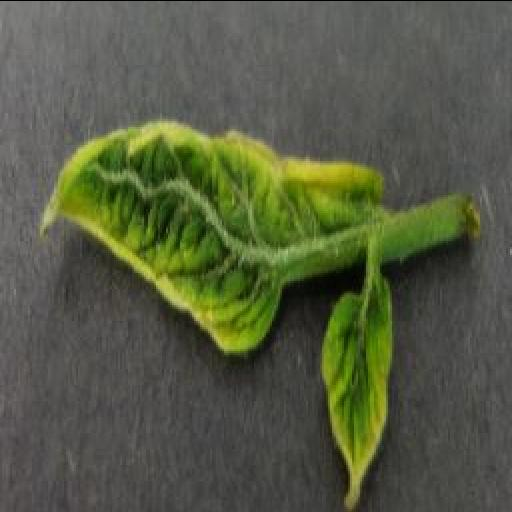disease_tomato: (35, 120, 385, 349), (312, 278, 399, 508)
